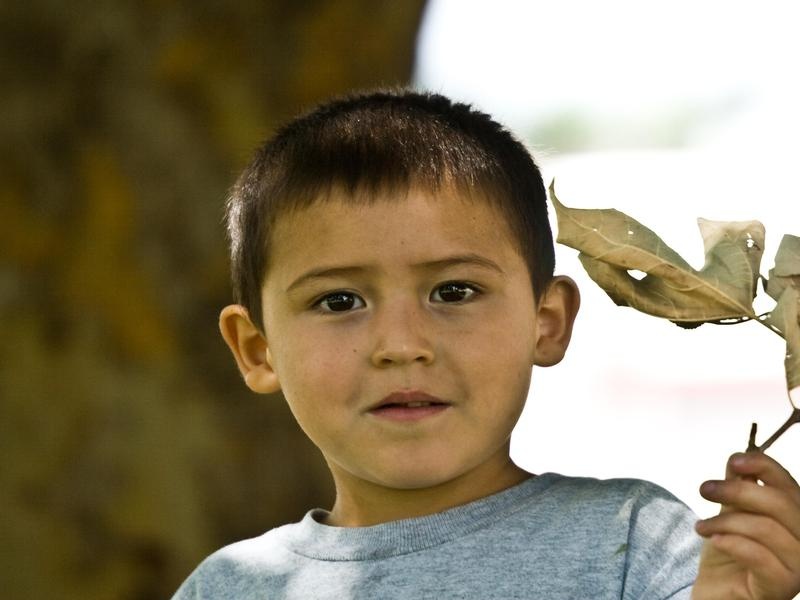person: (165, 77, 792, 600)
